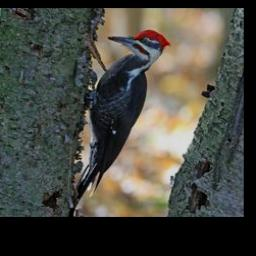Woodpecker: (71, 28, 172, 214)
